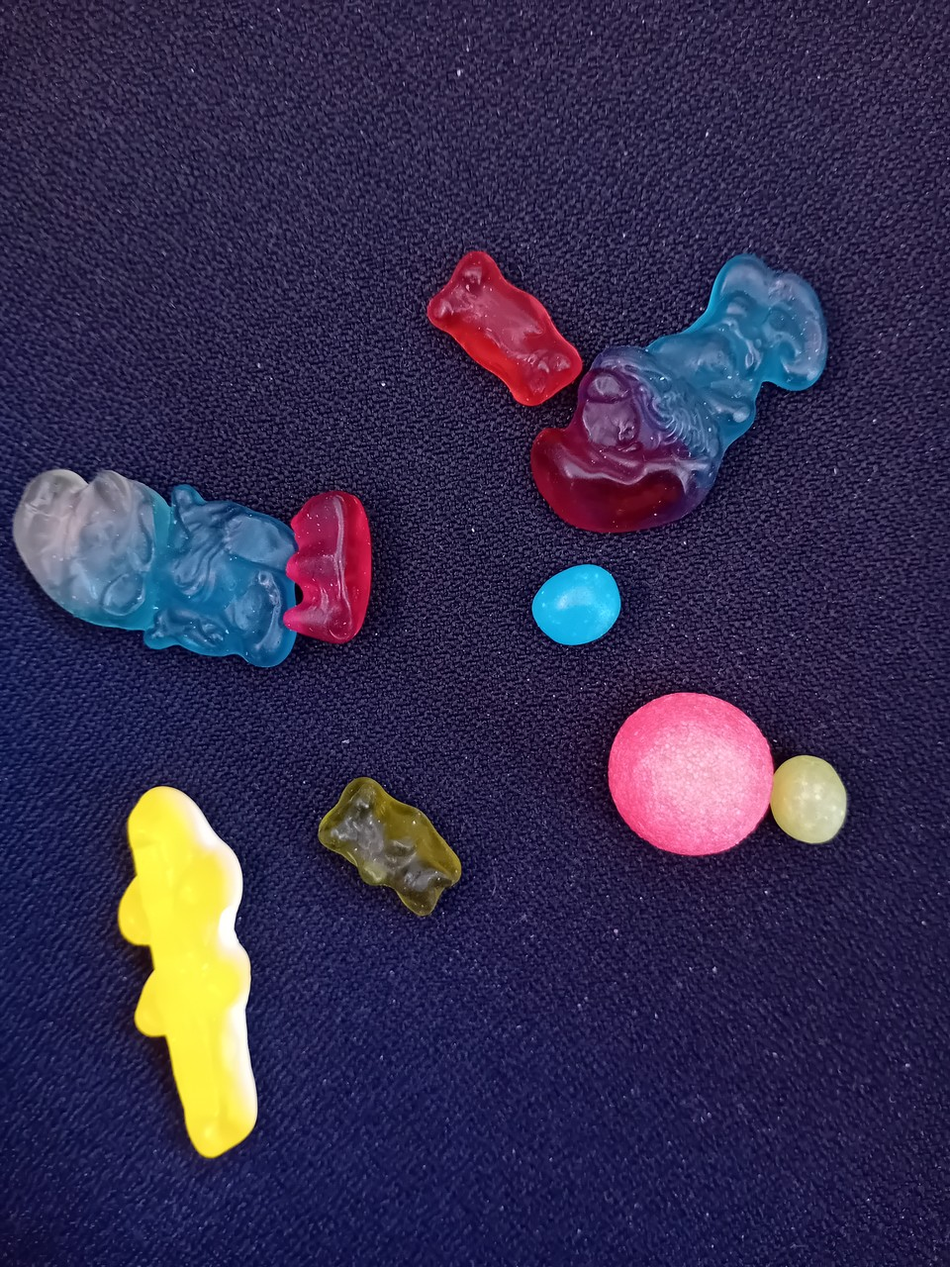crocodile_jaune: (104, 777, 268, 1166)
dragibus_bleu: (518, 562, 630, 651)
dragibus_vert: (768, 750, 853, 855)
ourson_orangeFonce: (412, 247, 587, 410)
ourson_rouge: (279, 477, 376, 653)
ourson_vert: (304, 770, 470, 921)
schtroumpf_bleu-blanc: (9, 455, 302, 677)
schtroumpf_bleu-rouge: (524, 250, 835, 536)
tagada_fraise: (601, 682, 777, 862)
